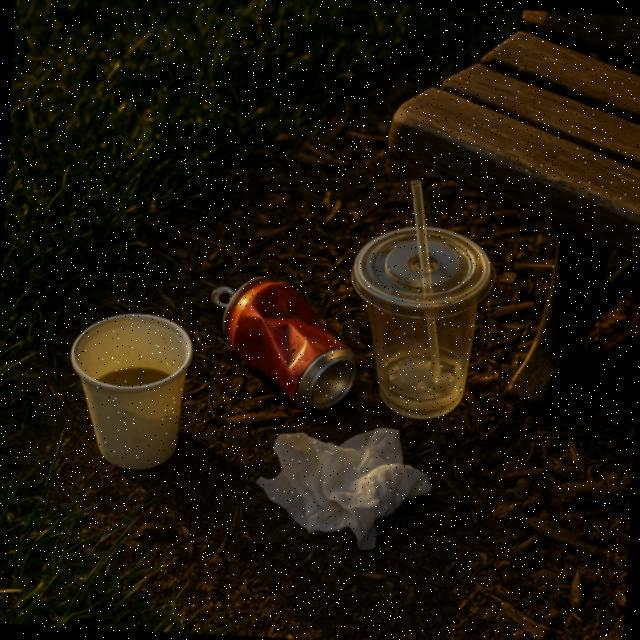aluminum: (208, 270, 359, 410)
paper: (252, 421, 424, 550), (63, 310, 194, 472)
plastic: (344, 222, 501, 422)
